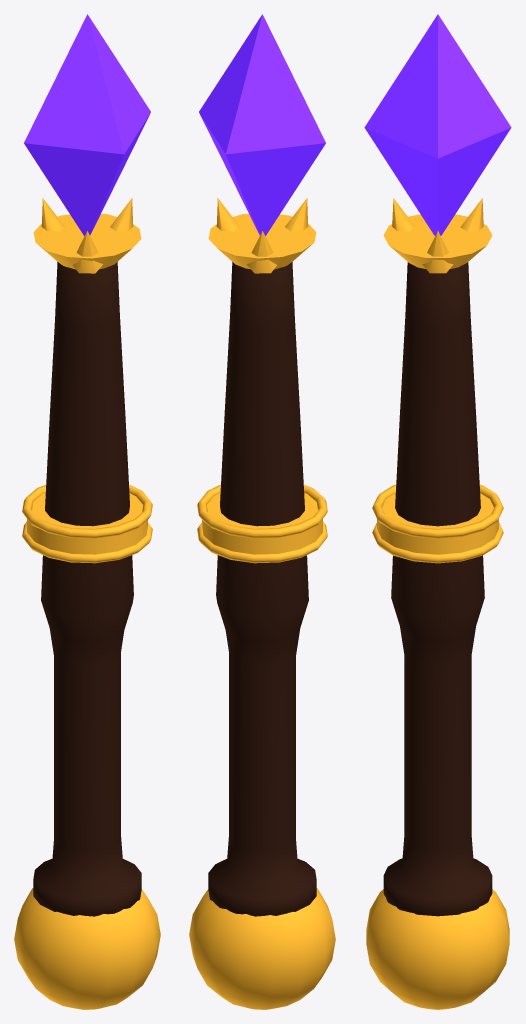
The model's file is wand_classic.glb.
3 views of the same model, side by side, from view 1: azimuth 30°, elevation 25°; view 2: azimuth 150°, elevation 25°; view 3: azimuth 270°, elevation 25° (orthographic).
Size of the model in its own units: 0.1347 by 0.9999 by 0.1347.
